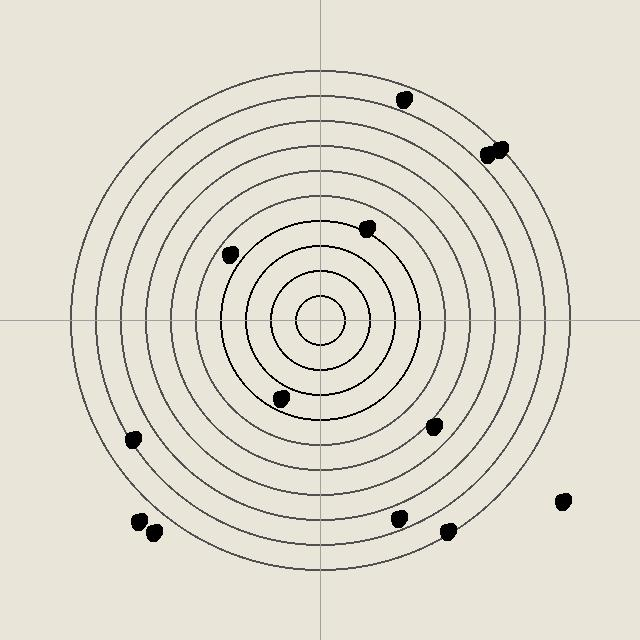random_scatter: (388, 508, 408, 528), (143, 522, 163, 542), (437, 521, 457, 541), (489, 139, 509, 159), (552, 491, 572, 511), (393, 89, 413, 109), (128, 511, 148, 531), (423, 416, 443, 436), (219, 244, 239, 264), (122, 429, 142, 449), (356, 218, 376, 238), (270, 388, 290, 408), (477, 144, 497, 164)
